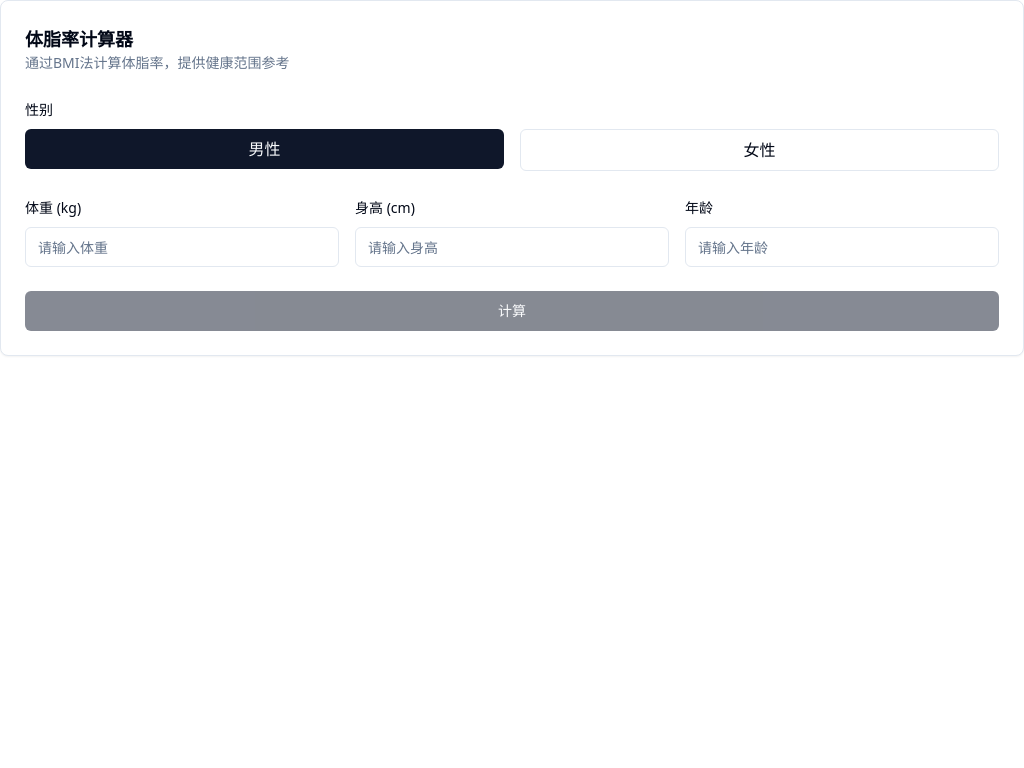
Test case: Body Fat Calculator Integration › should calculate body fat percentage correctly
In the number field labelled "体重 (kg)": (182, 247) [25,227,339,267], type "70"
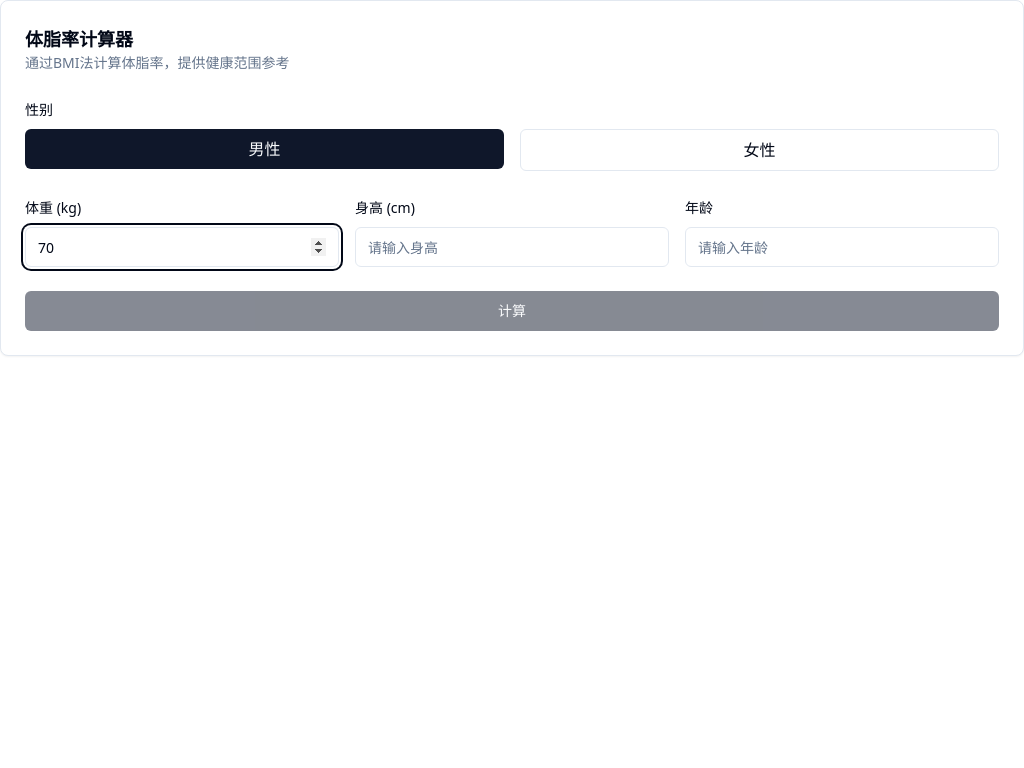
In the number field labelled "身高 (cm)": (512, 247) [355,227,669,267], type "175"
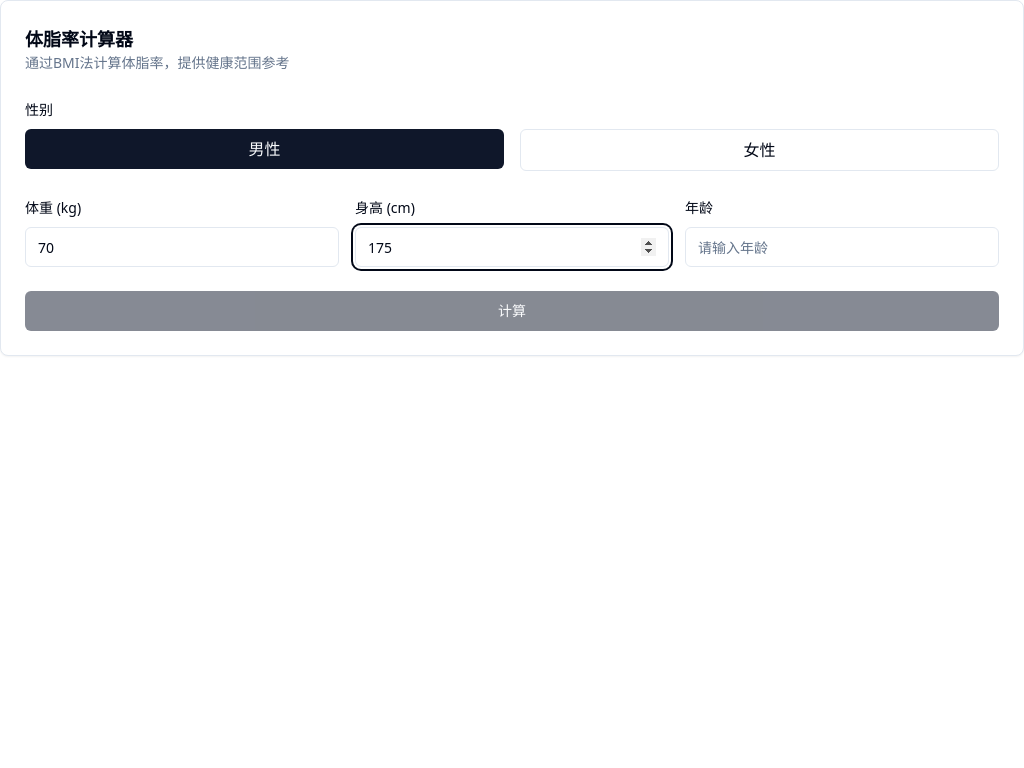
In the number field labelled "年龄": (842, 247) [685,227,999,267], type "30"
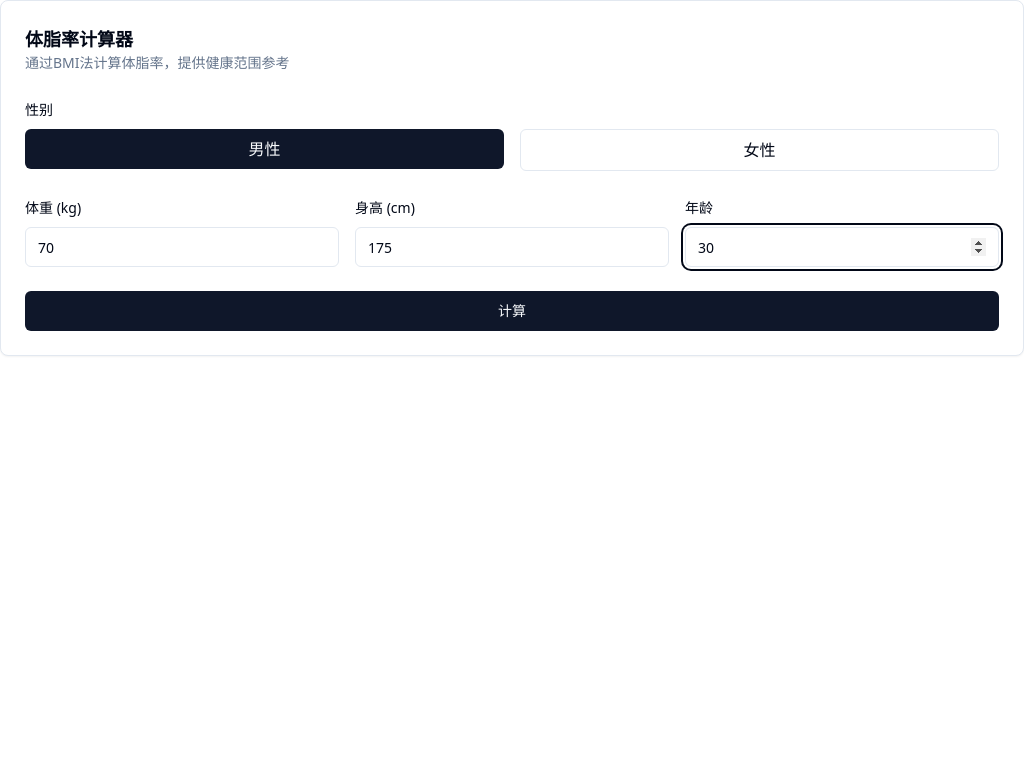
Click the button "计算": (512, 311) [25,291,999,331]
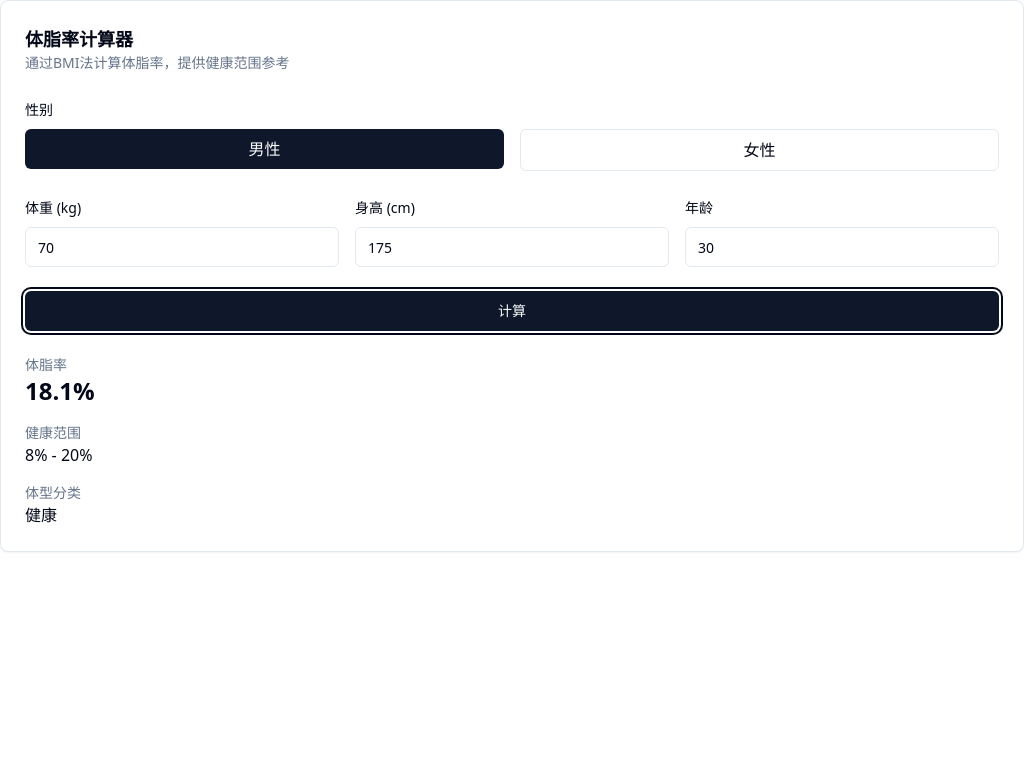
expect the element named "计算结果" is shown: met, box [25,355,95,526]
expect the heading "18.1%" is shown: met, box [25,374,95,407]
